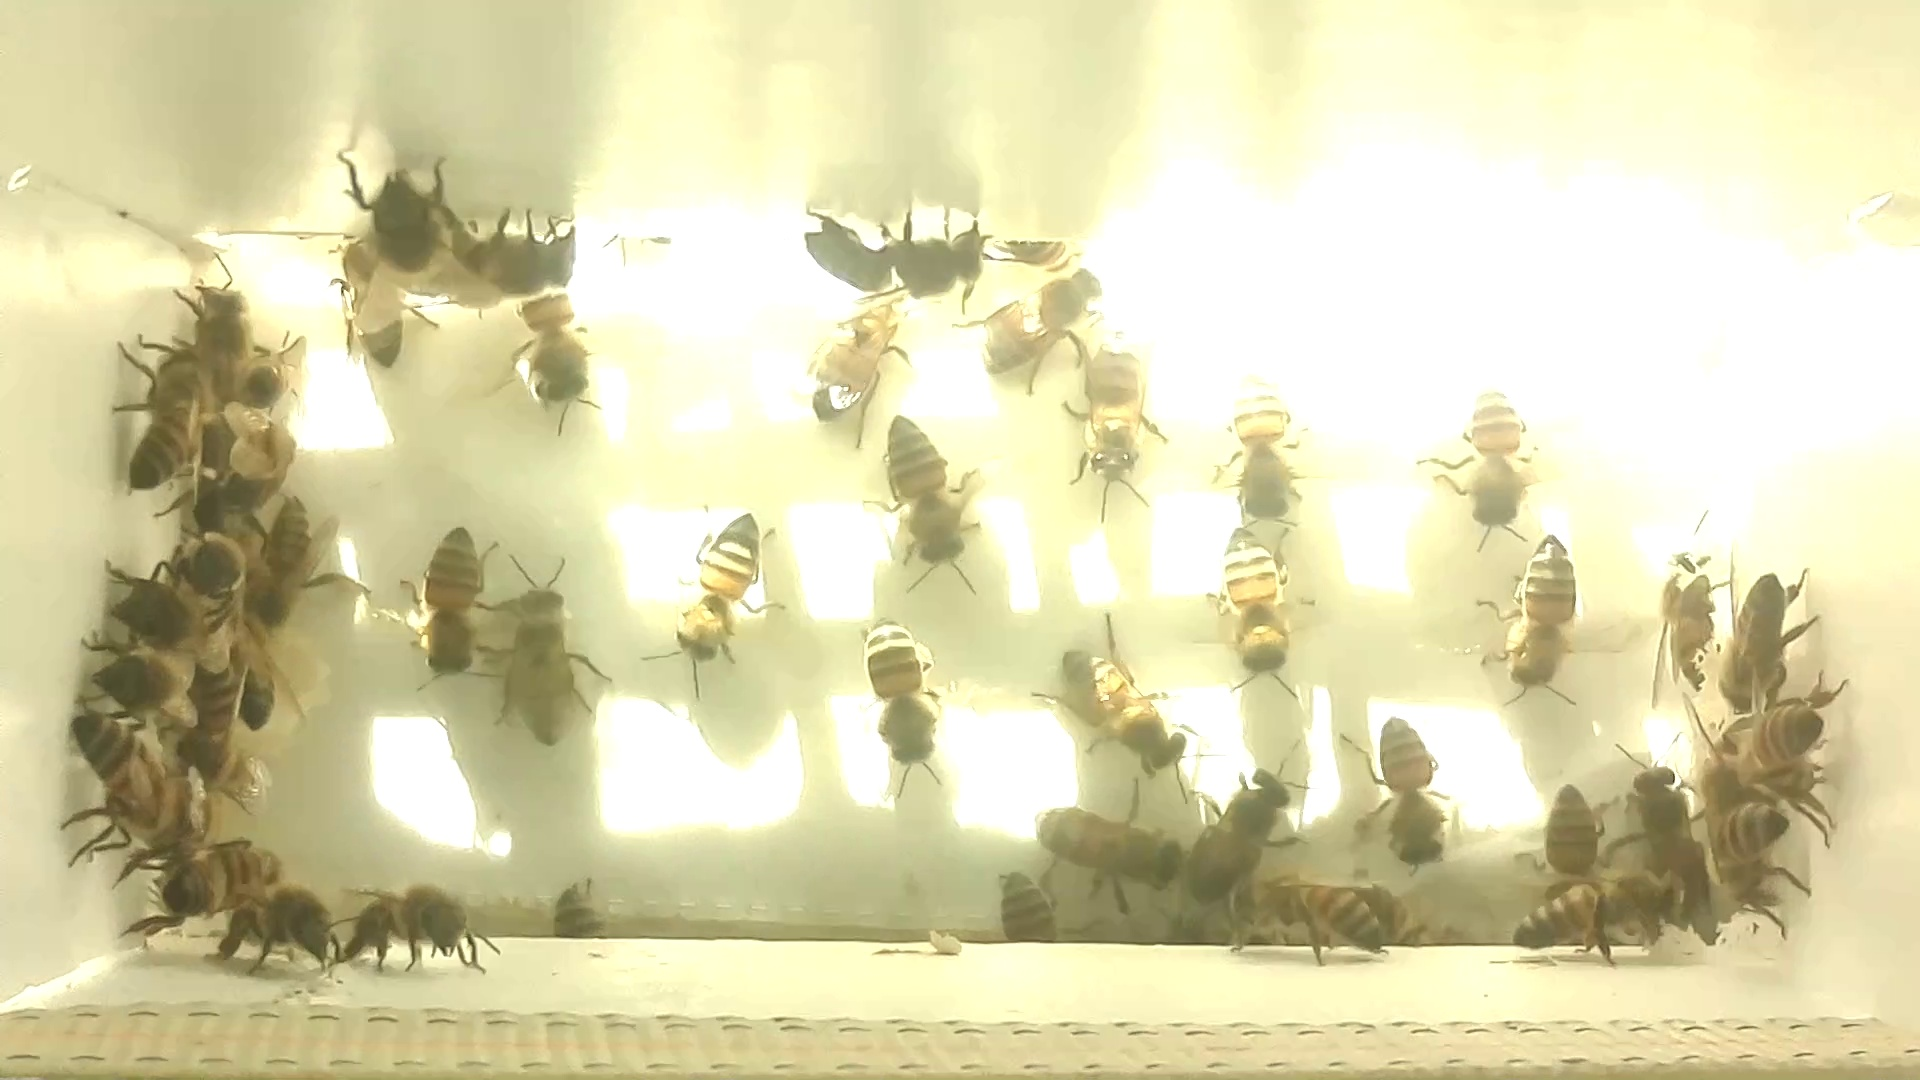bee: (844, 392, 1007, 601), (636, 473, 781, 702), (1025, 600, 1193, 790), (477, 538, 620, 760), (796, 181, 1000, 328), (1466, 514, 1605, 719), (1158, 733, 1320, 906), (1185, 512, 1323, 708), (1324, 703, 1466, 886), (1424, 359, 1553, 553), (1625, 501, 1735, 725), (330, 136, 473, 309), (381, 500, 500, 705), (1205, 858, 1400, 980), (1695, 775, 1833, 945), (1601, 735, 1735, 909), (783, 261, 910, 446), (843, 608, 964, 800), (1199, 351, 1317, 541), (1060, 318, 1170, 520), (1015, 781, 1189, 905), (967, 243, 1106, 396), (55, 708, 204, 851), (310, 218, 440, 380), (1713, 551, 1826, 735), (1499, 858, 1698, 961), (334, 858, 496, 984), (1743, 674, 1861, 844), (495, 261, 611, 430), (229, 469, 355, 625), (133, 820, 299, 934), (419, 204, 593, 309), (96, 326, 203, 483), (200, 872, 344, 976), (74, 543, 203, 655), (61, 632, 195, 738), (179, 258, 258, 435), (1524, 770, 1629, 895), (160, 495, 260, 618), (181, 636, 253, 795), (978, 861, 1071, 959), (535, 880, 628, 955)
